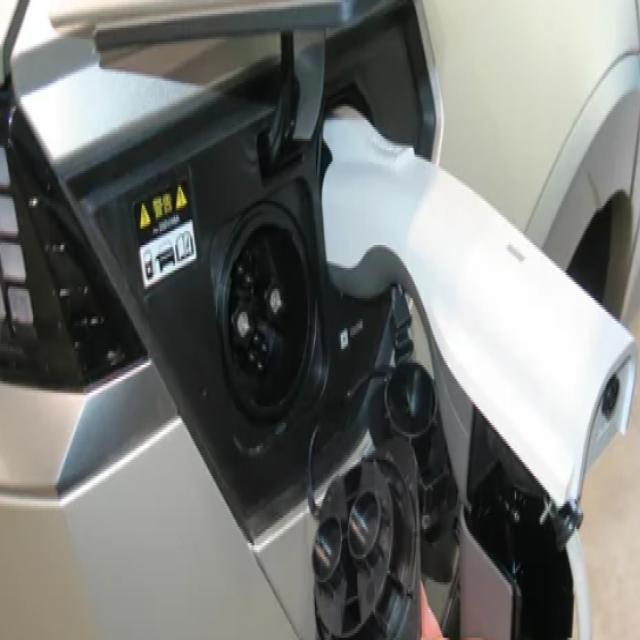CHAdeMO: (216, 217, 316, 422)
